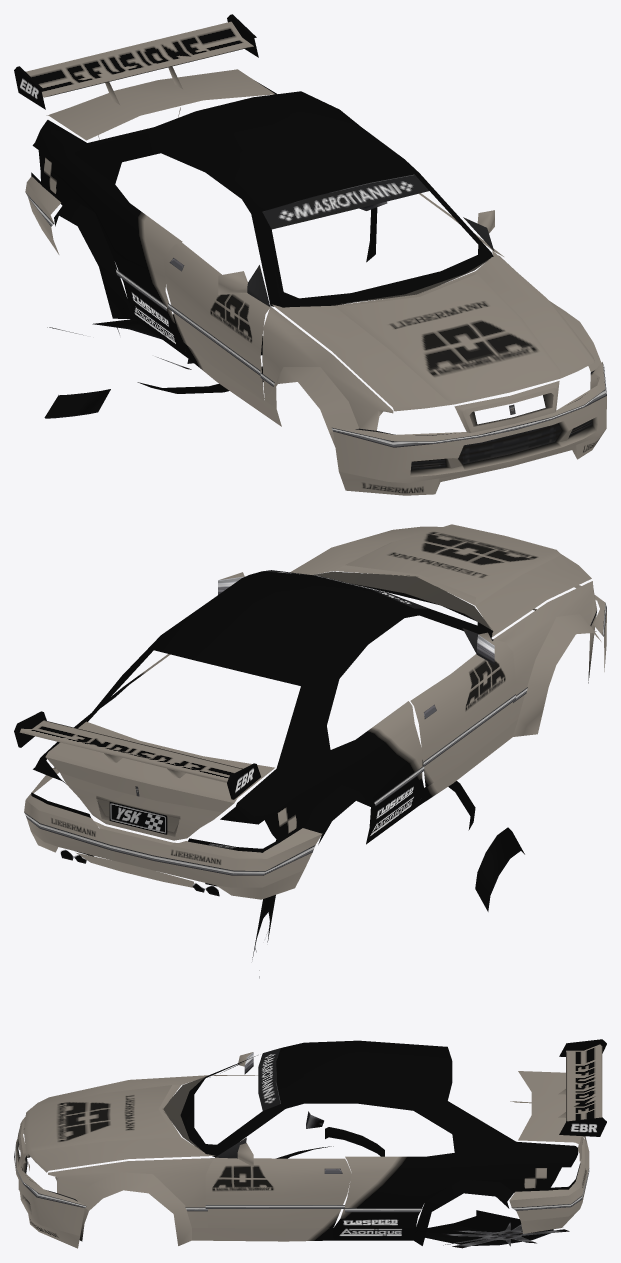
File: car-CUPE_Car7.glb
The picture shows the model from 3 angles, top to bottom: view 1: azimuth 30°, elevation 25°; view 2: azimuth 150°, elevation 25°; view 3: azimuth 270°, elevation 25°; orthographic projection. The views are drawn at different scales.
Visible parts, largest first — view 1: CUPE_Car7; view 2: CUPE_Car7; view 3: CUPE_Car7.
Boxes of the visible parts, x1=… form: CUPE_Car7: x1=14, y1=14, x2=606, y2=495; CUPE_Car7: x1=14, y1=524, x2=606, y2=978; CUPE_Car7: x1=14, y1=1039, x2=606, y2=1248.
Size of the model in its own units: 2.58 by 1.87 by 4.75.
10 materials, 10 textured.
